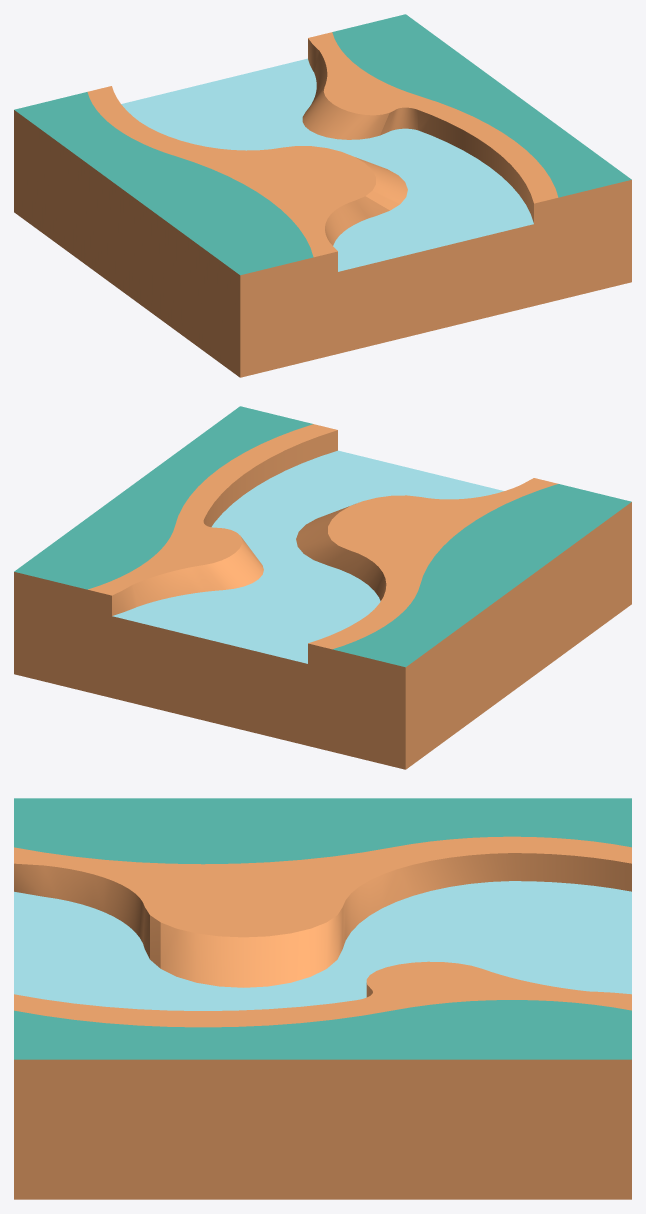
File: ground_dirtRiverBanks.fbx
3 renders of one model, top to bottom at view 1: azimuth 30°, elevation 25°; view 2: azimuth 150°, elevation 25°; view 3: azimuth 270°, elevation 25°, orthographic. The views are drawn at different scales.
Parts seen in each view (by area): view 1: ground_dirtRiverBanks; view 2: ground_dirtRiverBanks; view 3: ground_dirtRiverBanks.
Part boxes in pixels (x1=…): ground_dirtRiverBanks: x1=14, y1=14, x2=631, y2=377; ground_dirtRiverBanks: x1=14, y1=406, x2=631, y2=769; ground_dirtRiverBanks: x1=14, y1=798, x2=631, y2=1199.
Bounding box in the file's own units: 10 × 2.5 × 10.
